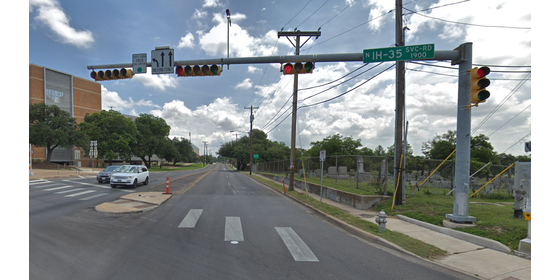left turn only sign: (151, 47, 160, 75)
left turn yield on green sign: (129, 49, 149, 77)
straight arrow only sign: (166, 45, 178, 77), (160, 48, 170, 76)
street name sign: (359, 42, 441, 64)
